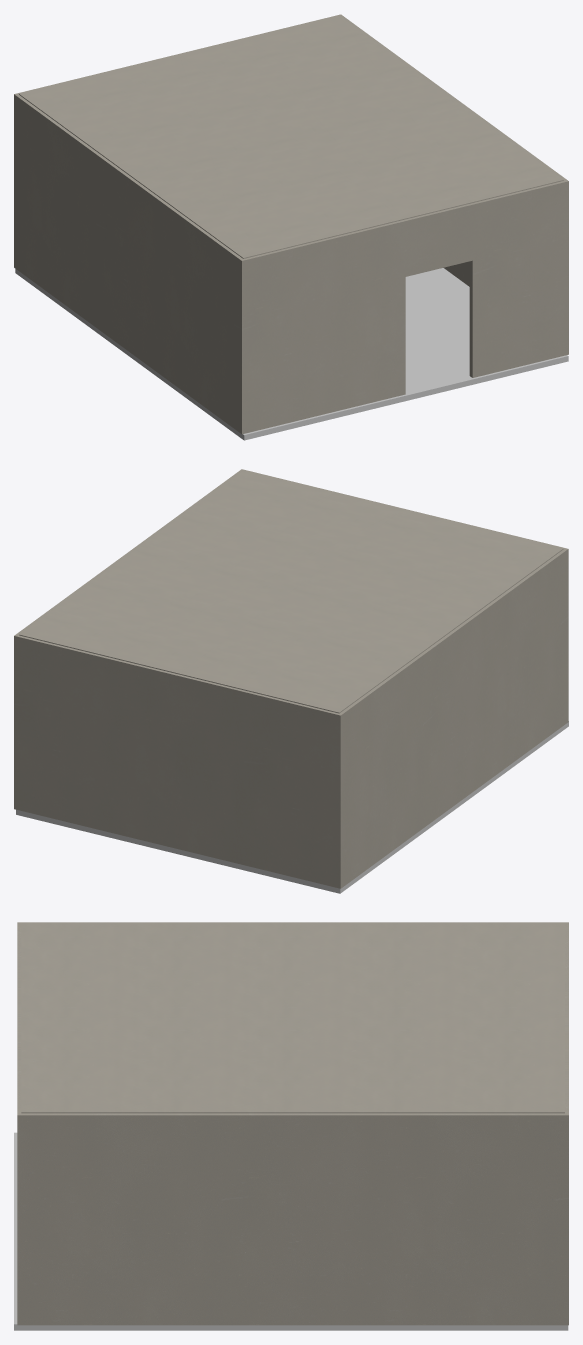
File: washroom.fbx
The picture shows the model from 3 angles, top to bottom: view 1: azimuth 30°, elevation 25°; view 2: azimuth 150°, elevation 25°; view 3: azimuth 270°, elevation 25°; orthographic projection. The views are drawn at different scales.
Visible parts, largest first — view 1: bathroomWalls, bathroomCeiling, bathroomFloor; view 2: bathroomWalls, bathroomCeiling, bathroomFloor; view 3: bathroomWalls, bathroomCeiling, bathroomFloor.
Boxes of the visible parts, x1,y1,x2,y2 form: bathroomWalls: (14,14,568,434); bathroomCeiling: (19,15,563,258); bathroomFloor: (15,268,568,440); bathroomWalls: (14,469,568,888); bathroomCeiling: (19,470,563,713); bathroomFloor: (16,721,568,893); bathroomWalls: (17,922,568,1325); bathroomCeiling: (21,923,564,1113); bathroomFloor: (14,1132,568,1330).
Size of the model in its own units: 630 by 331 by 765.
